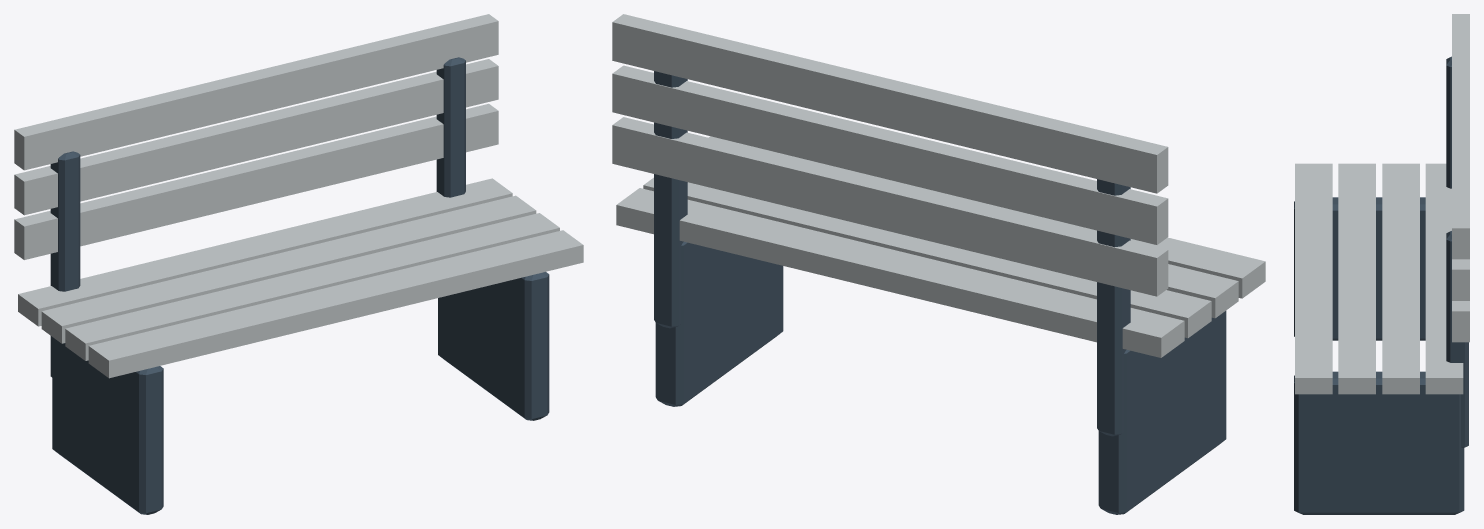
Rendered from v18_street_bench.glb.
The picture shows the model from 3 angles, left to right: view 1: azimuth 30°, elevation 25°; view 2: azimuth 150°, elevation 25°; view 3: azimuth 270°, elevation 25°; orthographic projection. The views are drawn at different scales.
Parts seen in each view (by area): view 1: _MeshInstance3D_4256, _MeshInstance3D_4254, _MeshInstance3D_4255, _MeshInstance3D_4253, _MeshInstance3D_4246, _MeshInstance3D_4248, _MeshInstance3D_4251, _MeshInstance3D_4252, _MeshInstance3D_4250, _MeshInstance3D_4247, _MeshInstance3D_4249; view 2: _MeshInstance3D_4256, _MeshInstance3D_4254, _MeshInstance3D_4255, _MeshInstance3D_4250, _MeshInstance3D_4246, _MeshInstance3D_4248, _MeshInstance3D_4251, _MeshInstance3D_4249, _MeshInstance3D_4247, _MeshInstance3D_4253, _MeshInstance3D_4252; view 3: _MeshInstance3D_4248, _MeshInstance3D_4251, _MeshInstance3D_4252, _MeshInstance3D_4253, _MeshInstance3D_4250, _MeshInstance3D_4256, _MeshInstance3D_4246, _MeshInstance3D_4249, _MeshInstance3D_4247, _MeshInstance3D_4254, _MeshInstance3D_4255.
Boxes of the visible parts, <box> form: _MeshInstance3D_4256: <box>14,14,498,170</box>; _MeshInstance3D_4254: <box>14,103,498,259</box>; _MeshInstance3D_4255: <box>14,59,498,215</box>; _MeshInstance3D_4253: <box>88,230,583,378</box>; _MeshInstance3D_4246: <box>52,337,163,514</box>; _MeshInstance3D_4248: <box>438,272,549,420</box>; _MeshInstance3D_4251: <box>41,195,536,343</box>; _MeshInstance3D_4252: <box>65,213,559,360</box>; _MeshInstance3D_4250: <box>18,178,512,326</box>; _MeshInstance3D_4247: <box>50,151,80,377</box>; _MeshInstance3D_4249: <box>436,57,465,197</box>; _MeshInstance3D_4256: <box>612,14,1168,193</box>; _MeshInstance3D_4254: <box>612,117,1168,296</box>; _MeshInstance3D_4255: <box>612,65,1168,244</box>; _MeshInstance3D_4250: <box>616,188,1184,357</box>; _MeshInstance3D_4246: <box>1098,311,1226,514</box>; _MeshInstance3D_4248: <box>655,241,783,406</box>; _MeshInstance3D_4251: <box>643,177,1211,338</box>; _MeshInstance3D_4249: <box>654,71,687,328</box>; _MeshInstance3D_4247: <box>1097,179,1130,436</box>; _MeshInstance3D_4253: <box>709,136,1265,298</box>; _MeshInstance3D_4252: <box>1167,264,1238,318</box>; _MeshInstance3D_4248: <box>1294,371,1464,514</box>; _MeshInstance3D_4251: <box>1382,163,1419,394</box>; _MeshInstance3D_4252: <box>1338,163,1375,394</box>; _MeshInstance3D_4253: <box>1295,163,1332,394</box>; _MeshInstance3D_4250: <box>1425,163,1463,394</box>; _MeshInstance3D_4256: <box>1452,14,1469,259</box>; _MeshInstance3D_4246: <box>1294,197,1425,340</box>; _MeshInstance3D_4249: <box>1446,231,1468,447</box>; _MeshInstance3D_4247: <box>1446,56,1451,188</box>; _MeshInstance3D_4254: <box>1452,301,1469,342</box>; _MeshInstance3D_4255: <box>1452,259,1469,300</box>.
Bounding box in the file's own units: 1.52 × 1 × 0.5257.
